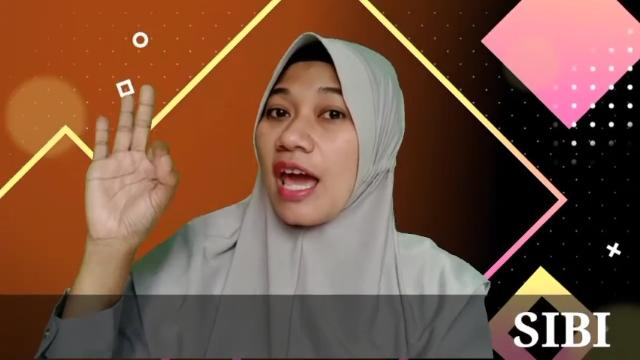F: (84, 81, 180, 236)
